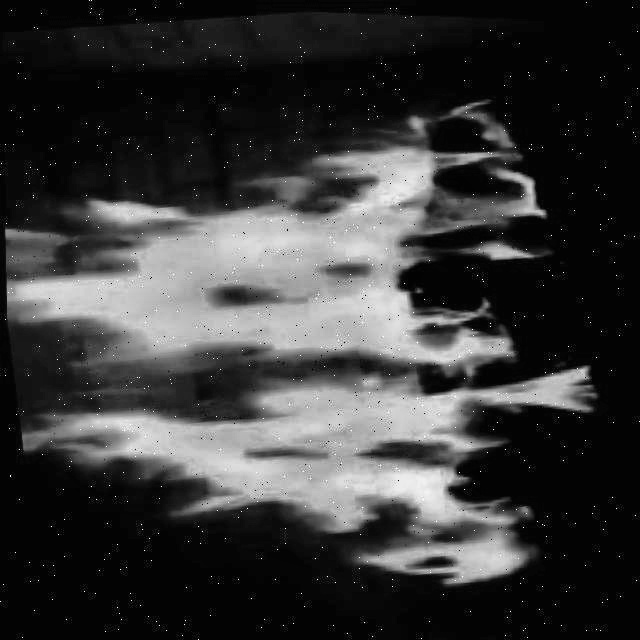Fire: (1, 76, 626, 629)
